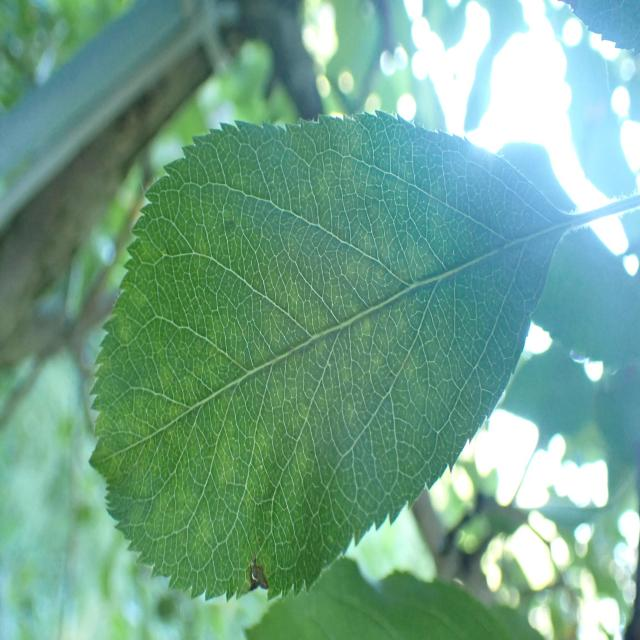scab: (237, 534, 276, 618)
